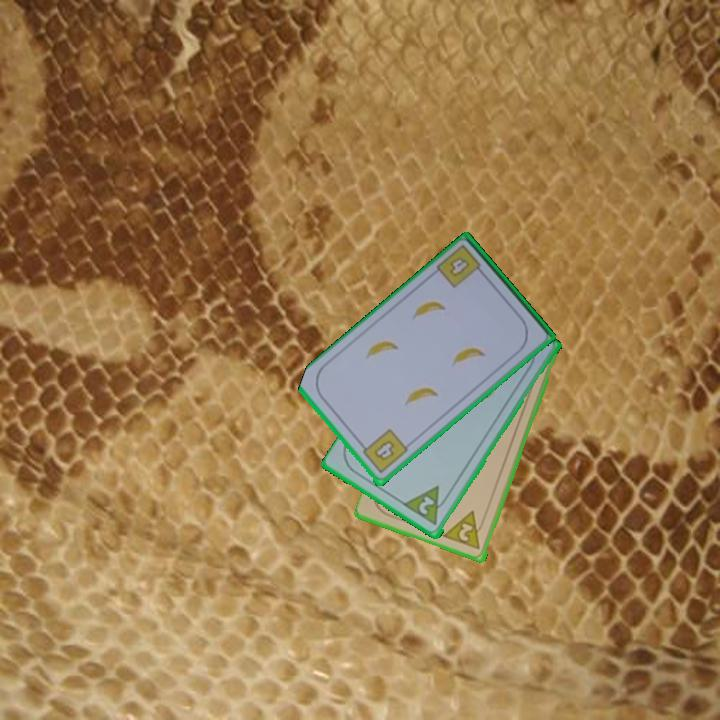2p: (441, 507, 488, 553), (415, 493, 438, 518)
4b: (356, 426, 411, 477), (446, 253, 470, 280)
